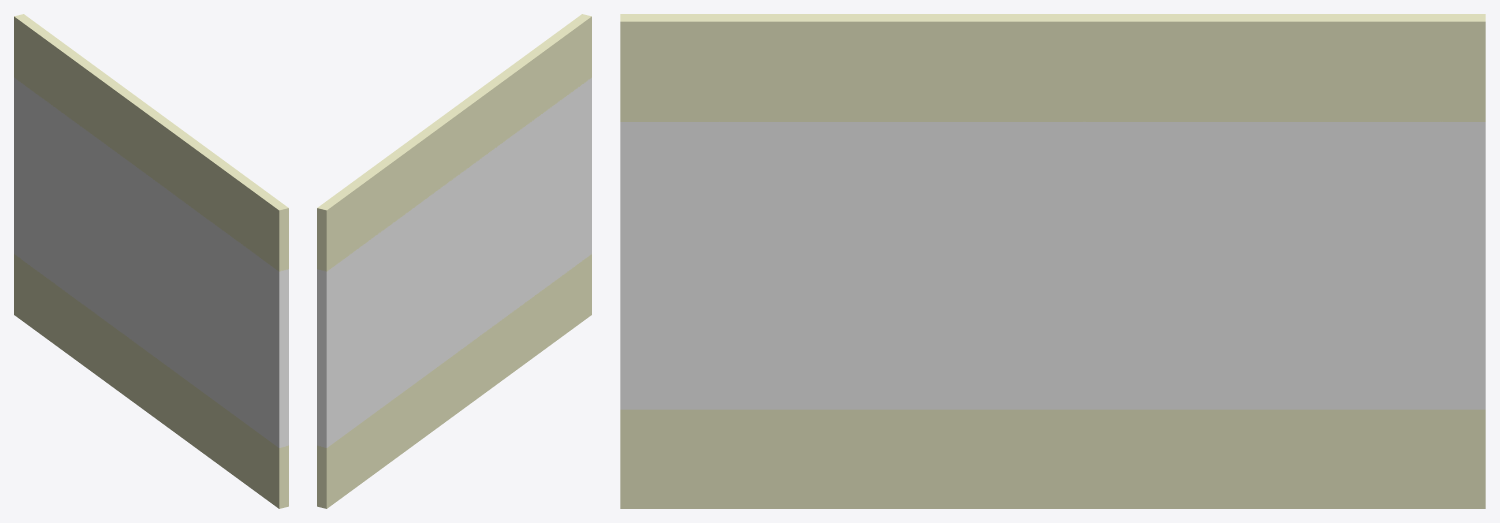
File: ROOM73B2-CUPBOARD-LEFT-BODYSET5_link_mesh.dae
The picture shows the model from 3 angles, left to right: view 1: azimuth 30°, elevation 25°; view 2: azimuth 150°, elevation 25°; view 3: azimuth 270°, elevation 25°; orthographic projection. The views are drawn at different scales.
Visible parts, largest first — view 1: ROOM73B2-CUPBOARD-LEFT-BODYSET5_link (×3); view 2: ROOM73B2-CUPBOARD-LEFT-BODYSET5_link (×3); view 3: ROOM73B2-CUPBOARD-LEFT-BODYSET5_link (×3).
Boxes of the visible parts, left/top/right/bottom form: ROOM73B2-CUPBOARD-LEFT-BODYSET5_link (×3): left=14, top=14, right=288, bottom=508; ROOM73B2-CUPBOARD-LEFT-BODYSET5_link (×3): left=317, top=14, right=591, bottom=508; ROOM73B2-CUPBOARD-LEFT-BODYSET5_link (×3): left=620, top=14, right=1485, bottom=508.
Bounding box in the file's own units: 0.01 × 0.292 × 0.47.
